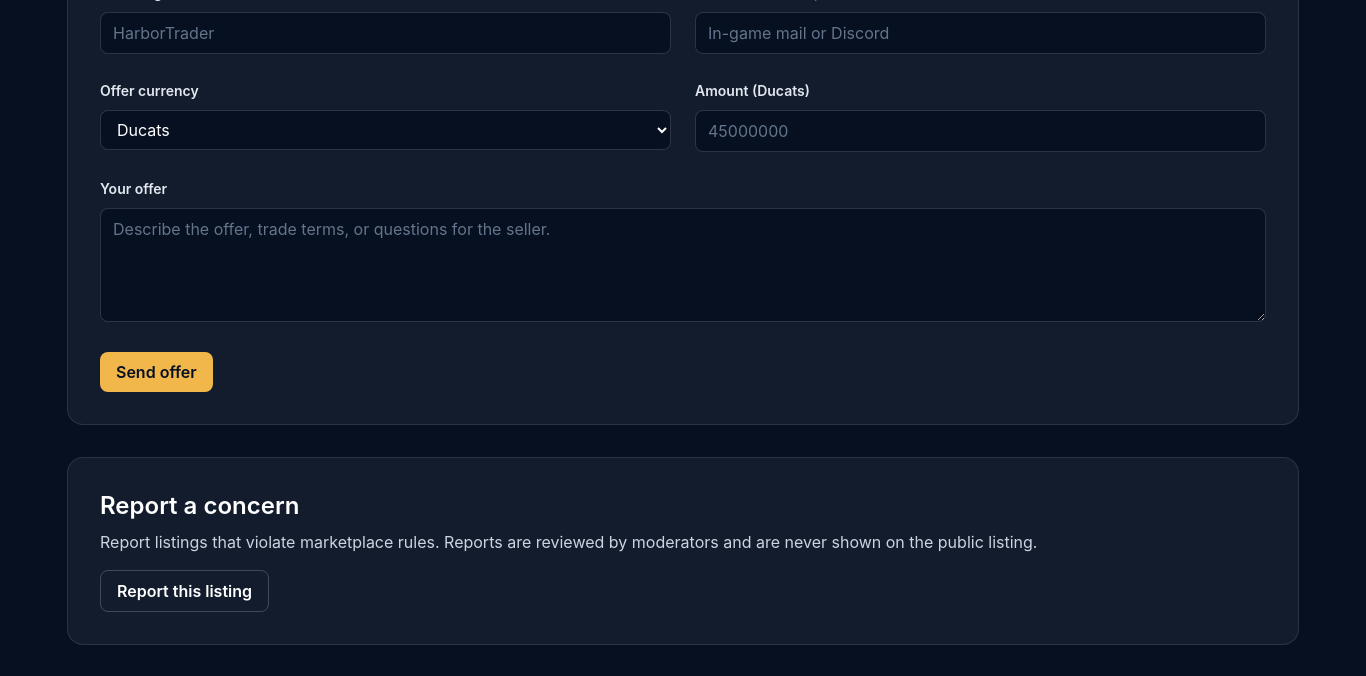
listing detail page › validates required offer fields before submission without requiring contact
(page scrolled)
What coordinates should you click on to do the following:
click the button "Send offer"
I would click on:
 (156, 372)
Its box is [100, 352, 213, 392].
(page scrolled)
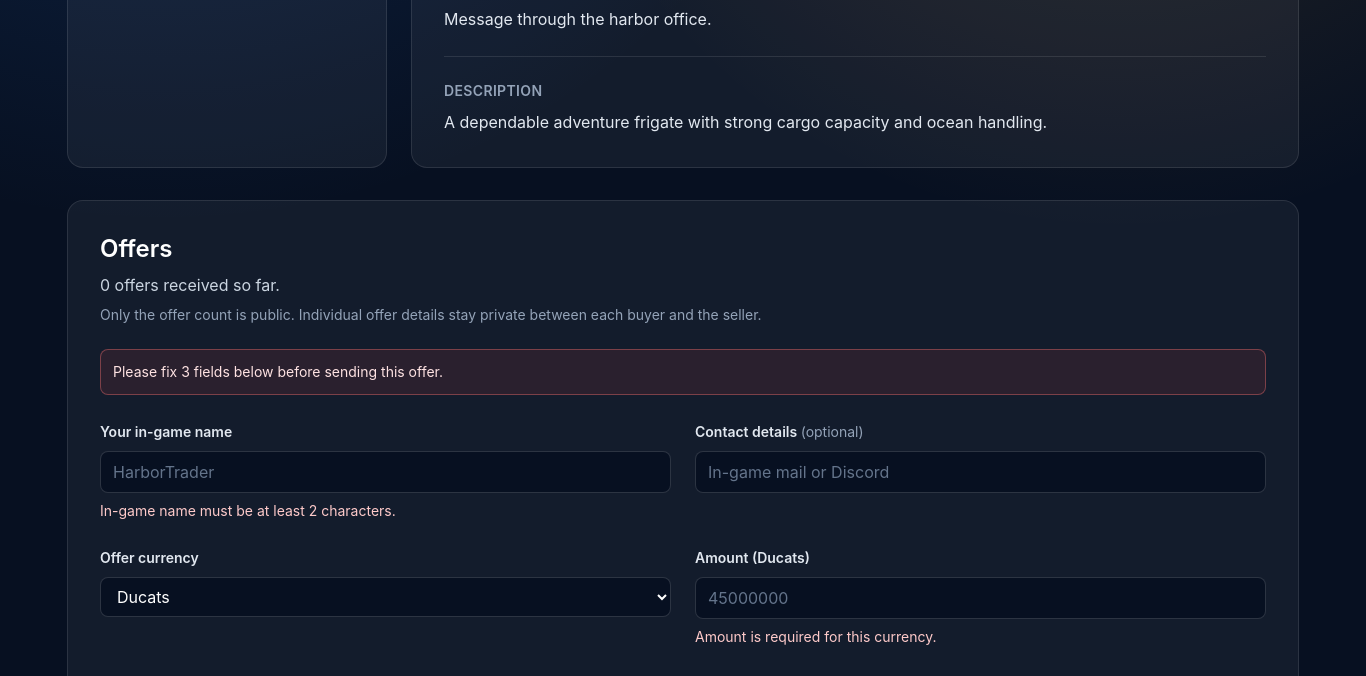
Check: the text "In-game name must be at least 2 characters." is shown, box [100, 502, 396, 519]
Check: the text "Amount is required for this currency." is shown, box [695, 628, 936, 645]
Check: the message "Please fix 3 fields below before sending this offer." is shown, box [100, 349, 1266, 395]
